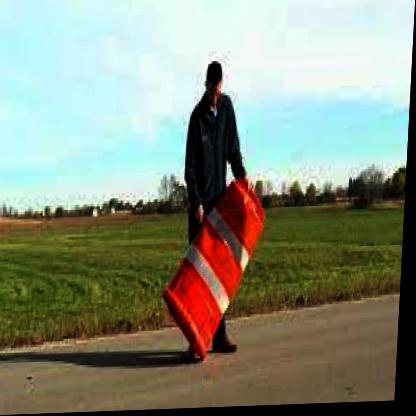obstacle: (166, 180, 269, 371)
